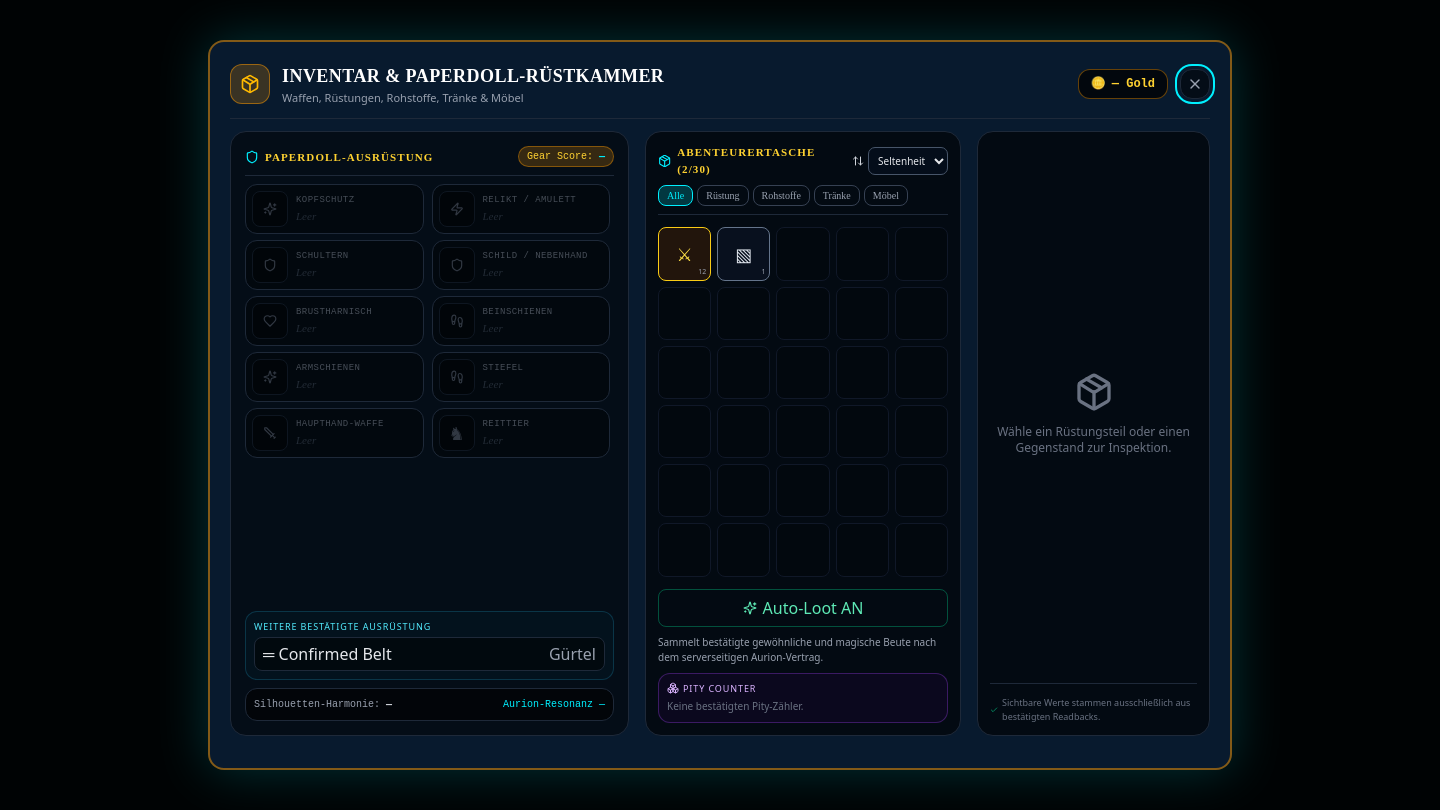
Test: AX1 inventory authority projection › keeps the cf9 inventory surface visible while unsupported mutations stay disabled
Check: the text "— Gold" is shown, box [1112,76,1155,92]
Check: the text "Gear Score: —" is shown, box [518,146,614,167]
Click the button named "Confirmed Blade · Selten" at (685, 254), box [658,227,711,281]
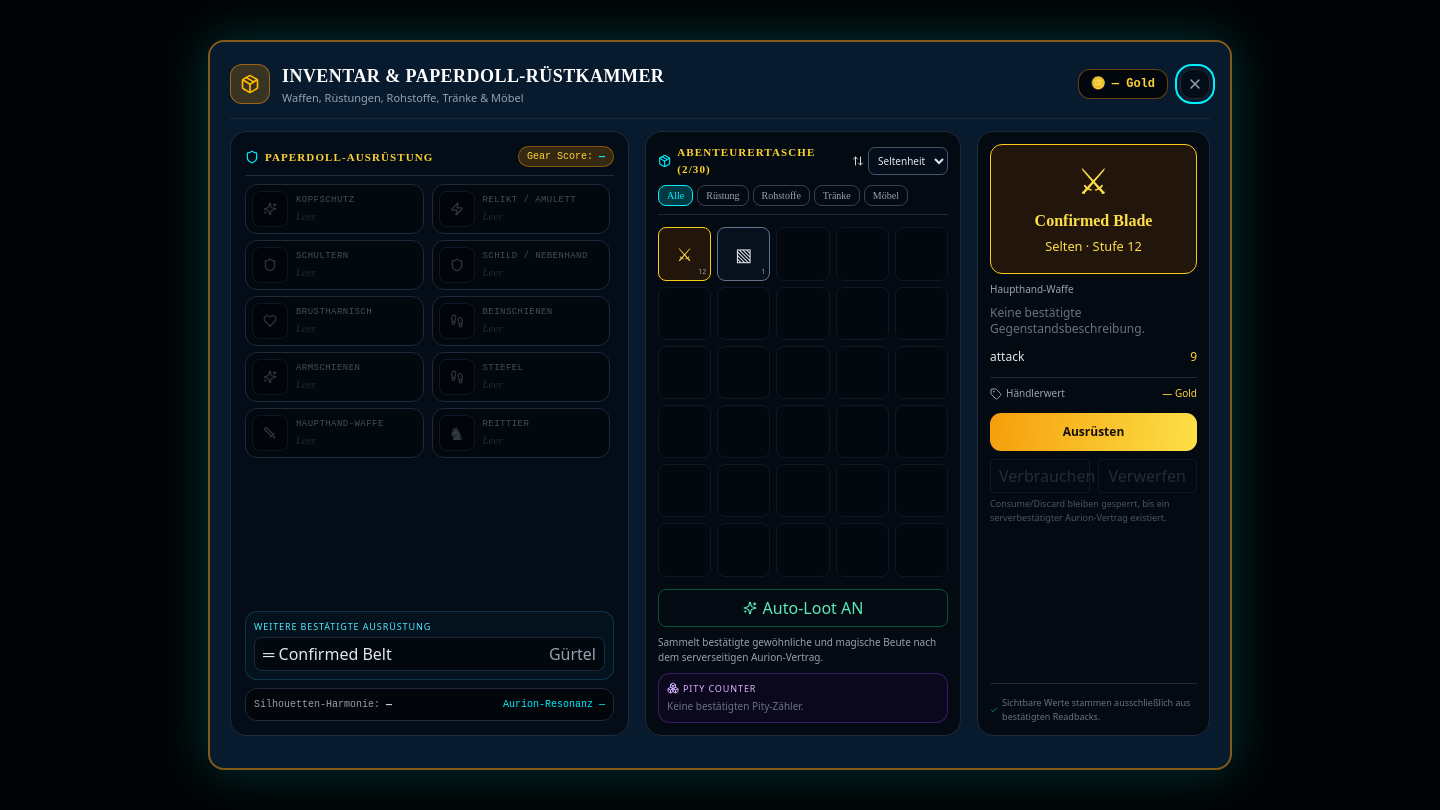
Check: the button "Verbrauchen" is disabled, box [990,459,1090,493]
Check: the button "Verwerfen" is disabled, box [1098,459,1197,493]
